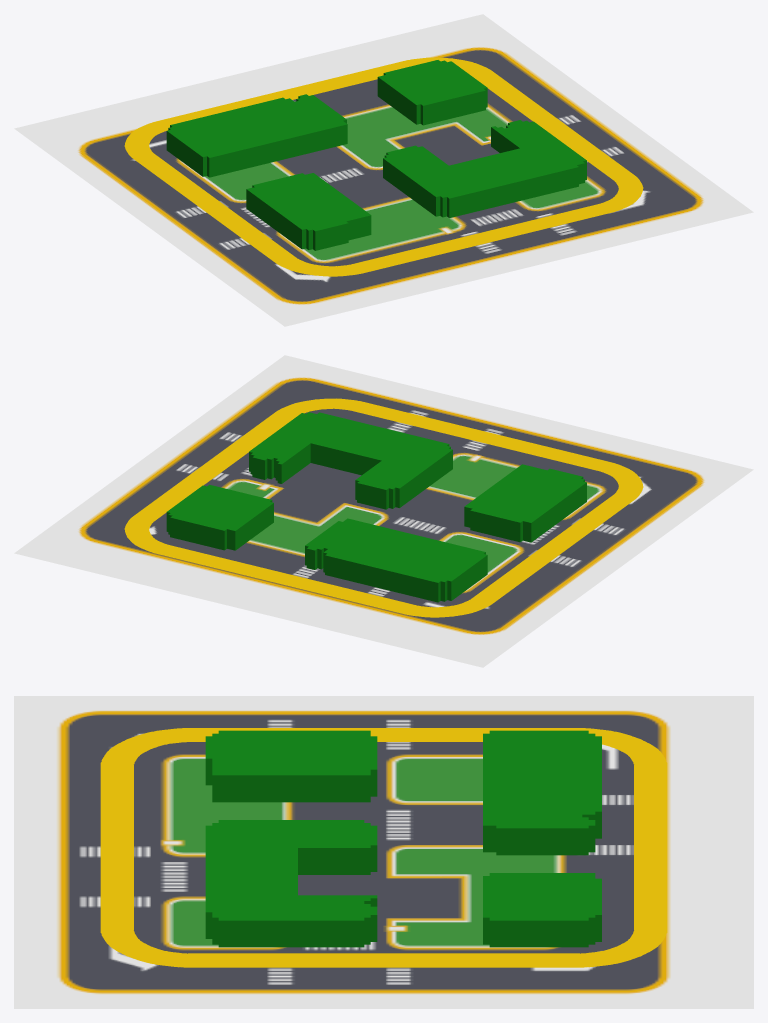
Rendered from autonomous_map_3d.dae.
The picture shows the model from 3 angles, top to bottom: view 1: azimuth 30°, elevation 25°; view 2: azimuth 150°, elevation 25°; view 3: azimuth 270°, elevation 25°; orthographic projection. The views are drawn at different scales.
Parts seen in each view (by area): view 1: map_base_node, obstacles_node, yellow_line_node; view 2: map_base_node, obstacles_node, yellow_line_node; view 3: map_base_node, obstacles_node, yellow_line_node.
Boxes of the visible parts, box(x1,y1,x2,y2) form: map_base_node: box(14, 14, 753, 326); obstacles_node: box(166, 60, 586, 250); yellow_line_node: box(124, 57, 643, 276); map_base_node: box(14, 355, 753, 667); obstacles_node: box(166, 412, 586, 602); yellow_line_node: box(124, 398, 643, 617); map_base_node: box(14, 696, 753, 1008); obstacles_node: box(205, 730, 601, 947); yellow_line_node: box(100, 728, 667, 967).
Bounding box in the file's own units: 4 × 4 × 0.16.
Materials: 3 (1 with a texture image).
